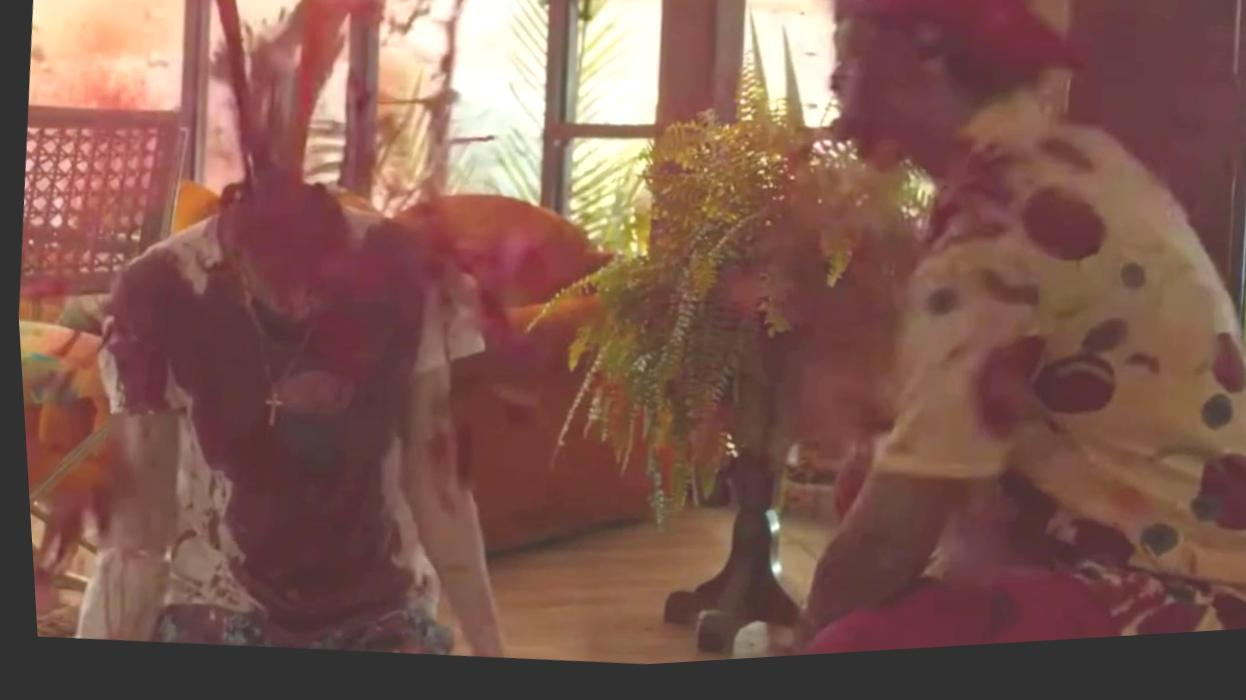Fire: (67, 0, 607, 664), (27, 4, 156, 113)
